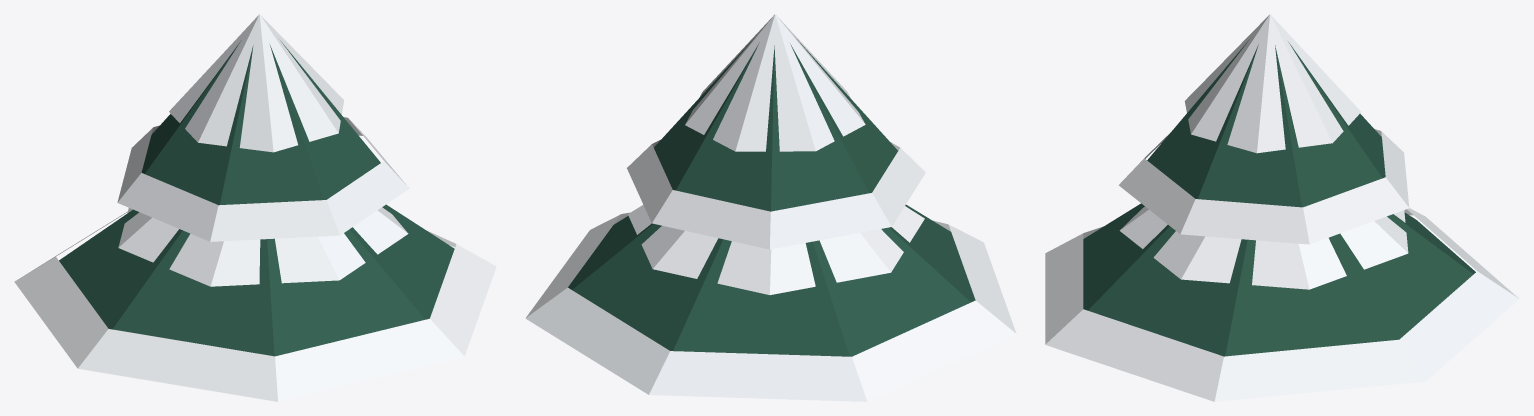
The model's file is pine-d.glb.
3 renders of one model, left to right at view 1: azimuth 30°, elevation 25°; view 2: azimuth 150°, elevation 25°; view 3: azimuth 270°, elevation 25°, orthographic.
Parts seen in each view (by area): view 1: pine-d; view 2: pine-d; view 3: pine-d.
Boxes of the visible parts, x1,y1,x2,y2 form: pine-d: (14,14,496,401); pine-d: (525,14,1016,401); pine-d: (1045,14,1519,401).
Bounding box in the file's own units: 8.18 × 6.11 × 7.98.
